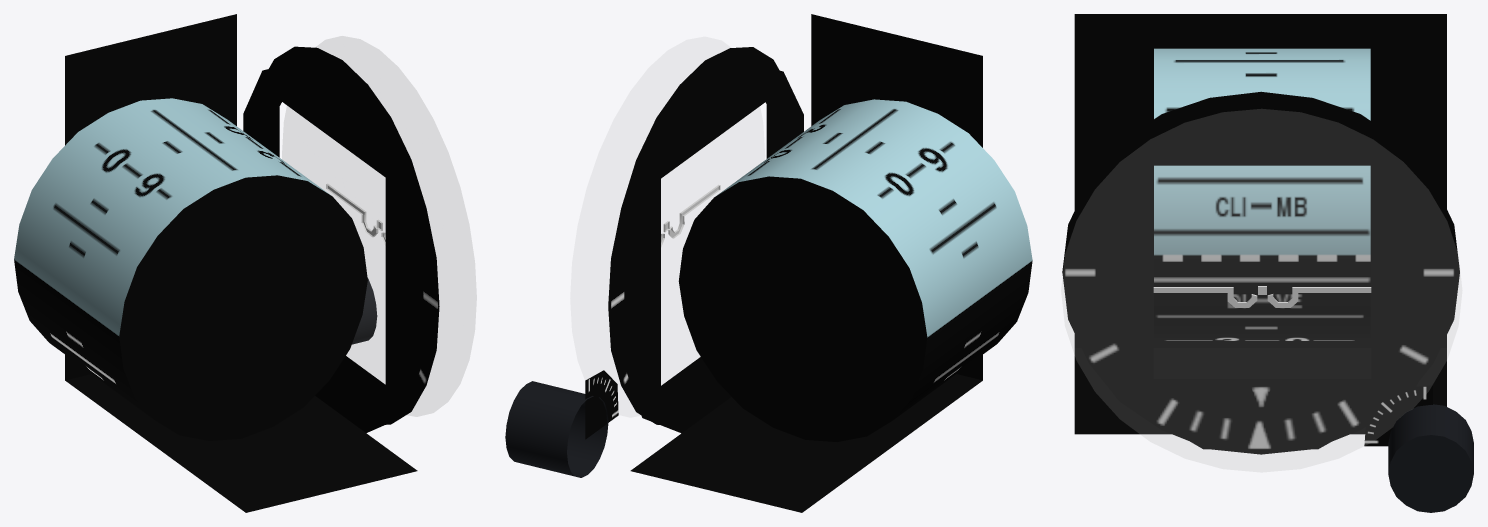
The model's file is adi.fbx.
3 renders of one model, left to right at view 1: azimuth 30°, elevation 25°; view 2: azimuth 150°, elevation 25°; view 3: azimuth 270°, elevation 25°, orthographic. The views are drawn at different scales.
Visible parts, largest first — view 1: adi.drum, adi.bkg, adi.vitre, adi.ring, adi.button, adi.plane; view 2: adi.drum, adi.bkg, adi.vitre, adi.button, adi.ring, adi.scale; view 3: adi.vitre, adi.bkg, adi.drum, adi.ring, adi.button, adi.scale, adi.plane.
Part boxes in pixels (x1,y1,x2,y2): adi.drum: [14, 98, 367, 440]; adi.bkg: [65, 14, 422, 512]; adi.vitre: [282, 36, 476, 416]; adi.ring: [269, 46, 439, 424]; adi.button: [352, 278, 377, 344]; adi.plane: [326, 183, 385, 246]; adi.drum: [678, 99, 1032, 441]; adi.bkg: [624, 14, 982, 512]; adi.vitre: [570, 37, 764, 416]; adi.button: [505, 381, 608, 477]; adi.ring: [608, 47, 779, 424]; adi.scale: [585, 370, 618, 439]; adi.vitre: [1061, 109, 1461, 471]; adi.bkg: [1074, 14, 1446, 449]; adi.drum: [1154, 48, 1370, 340]; adi.ring: [1062, 91, 1459, 454]; adi.button: [1388, 404, 1473, 512]; adi.scale: [1364, 385, 1432, 446]; adi.plane: [1153, 286, 1371, 307].
Size of the model in its own units: 5.76 by 5.38 by 5.39.
